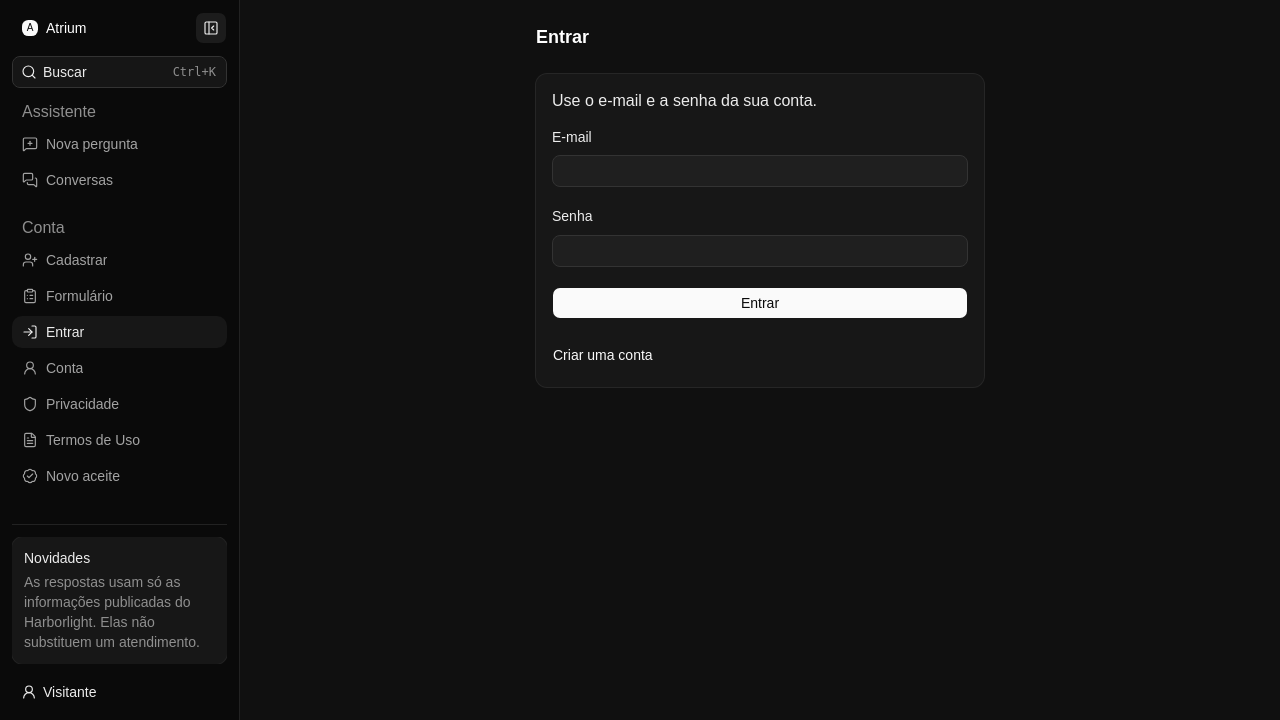
Scenario: entrar › volta para returnTo depois do login
Type "admin@example.com" into the field labelled "E-mail" at [760, 171], box [552,155,968,187]
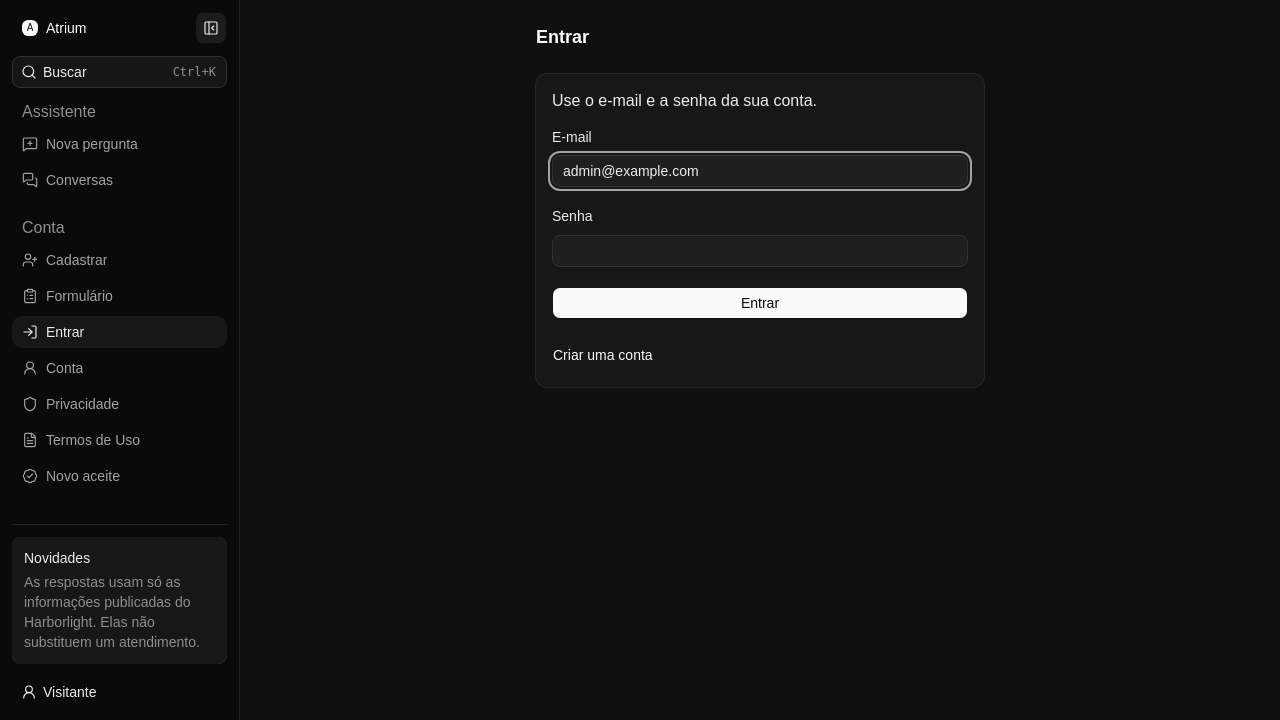
Type "correct-horse-1" into the password field labelled "Senha" at [760, 250], box [552,234,968,266]
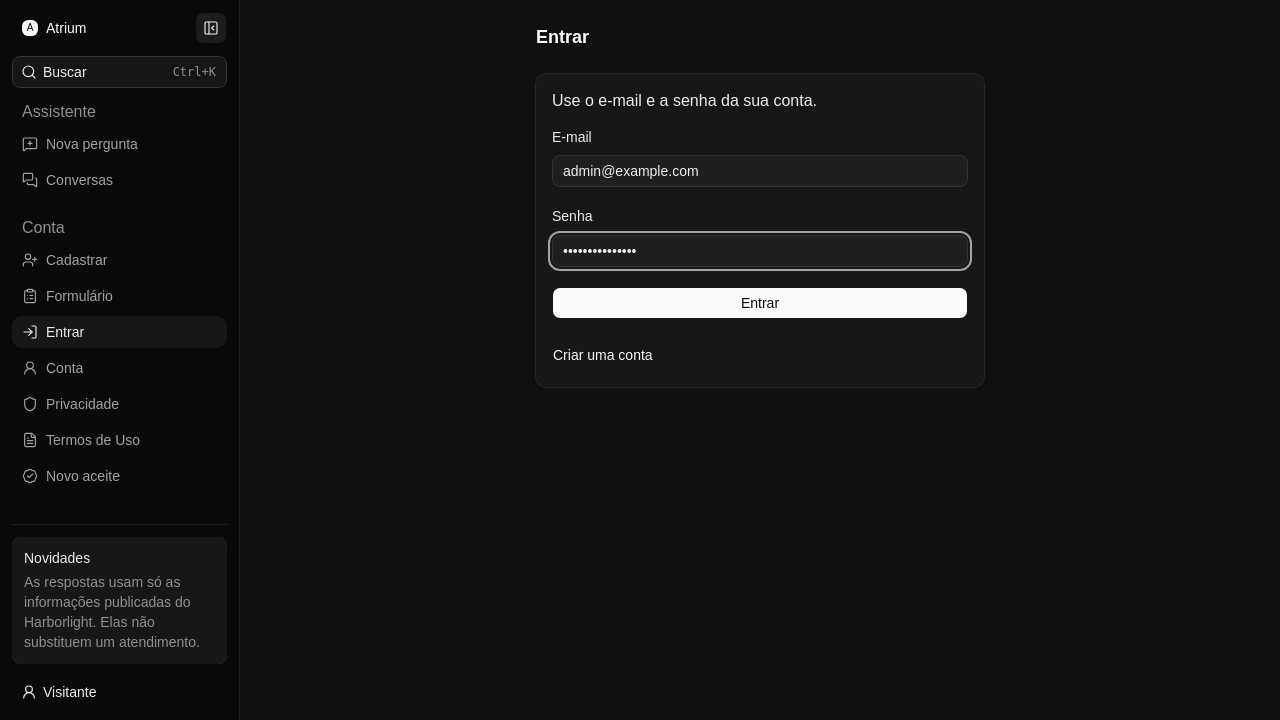
Click the button "Entrar" at [760, 302], box [552,286,968,318]
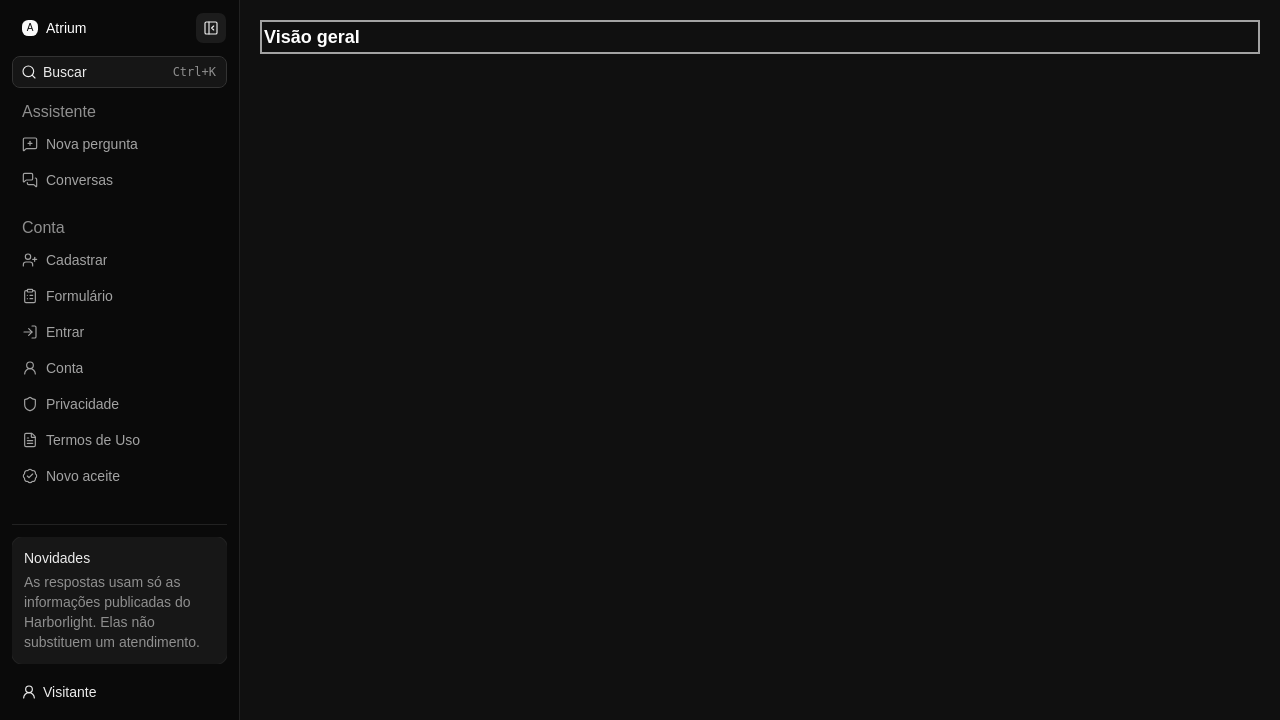
Now the heading "Visão geral" is shown, box [264,27,360,47]
